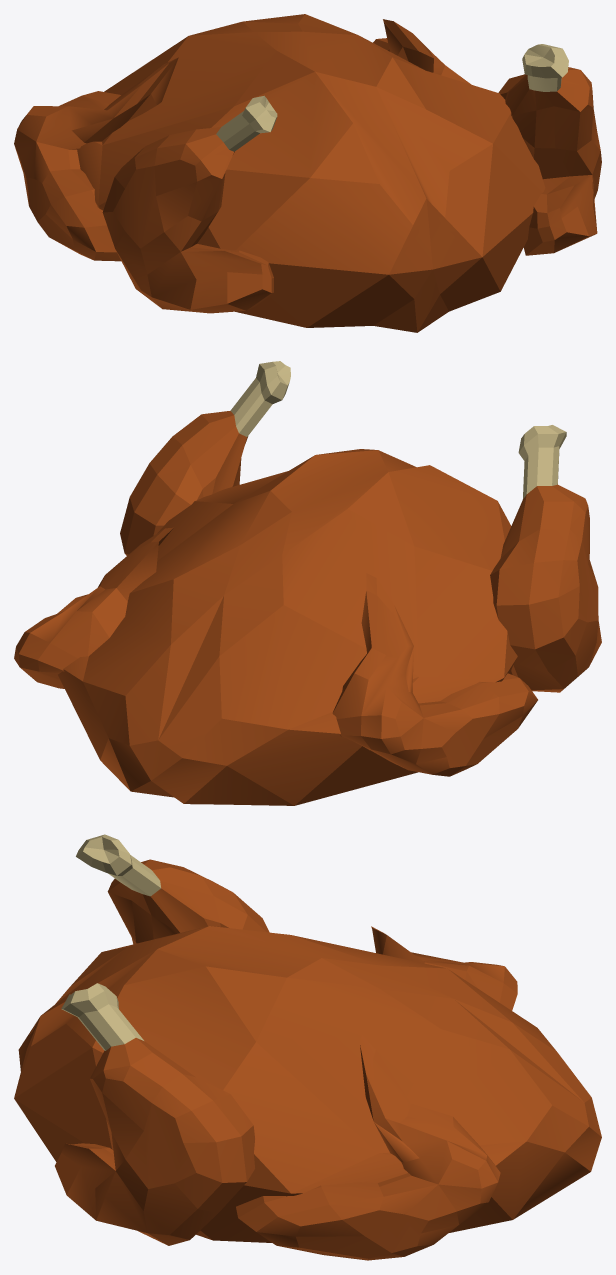
File: Chicken.fbx
3 renders of one model, top to bottom at view 1: azimuth 30°, elevation 25°; view 2: azimuth 150°, elevation 25°; view 3: azimuth 270°, elevation 25°, orthographic. The views are drawn at different scales.
Visible parts, largest first — view 1: Chicken; view 2: Chicken; view 3: Chicken.
Part boxes in pixels (bbox=[...]): Chicken: bbox=[14, 14, 601, 332]; Chicken: bbox=[14, 361, 601, 805]; Chicken: bbox=[14, 834, 601, 1260].
Size of the model in its own units: 66.61 by 38.38 by 71.57.
Materials: 1 (1 with a texture image).
